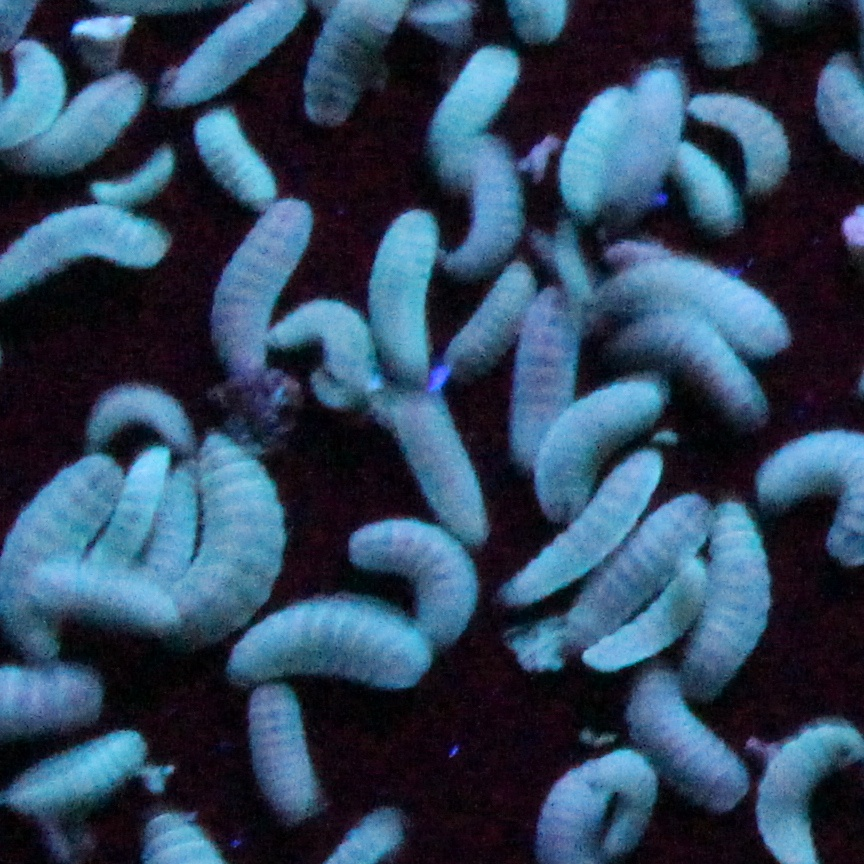larve: (531, 496, 714, 669), (172, 430, 287, 645), (504, 455, 665, 599), (204, 194, 314, 379), (609, 257, 789, 367), (614, 306, 772, 428), (350, 506, 482, 647), (226, 603, 436, 691), (541, 374, 658, 528), (694, 501, 775, 711), (624, 669, 748, 806), (392, 384, 489, 547), (26, 72, 146, 179), (592, 564, 707, 672), (28, 552, 177, 635), (431, 45, 526, 169), (375, 203, 441, 379), (446, 138, 528, 279), (438, 274, 538, 389), (516, 289, 580, 457), (246, 682, 324, 818), (611, 69, 687, 208), (685, 94, 789, 194), (87, 447, 172, 569), (194, 106, 285, 206), (563, 94, 631, 223), (665, 142, 741, 240), (92, 386, 199, 452), (146, 447, 202, 572), (609, 750, 653, 860), (94, 155, 172, 199)
